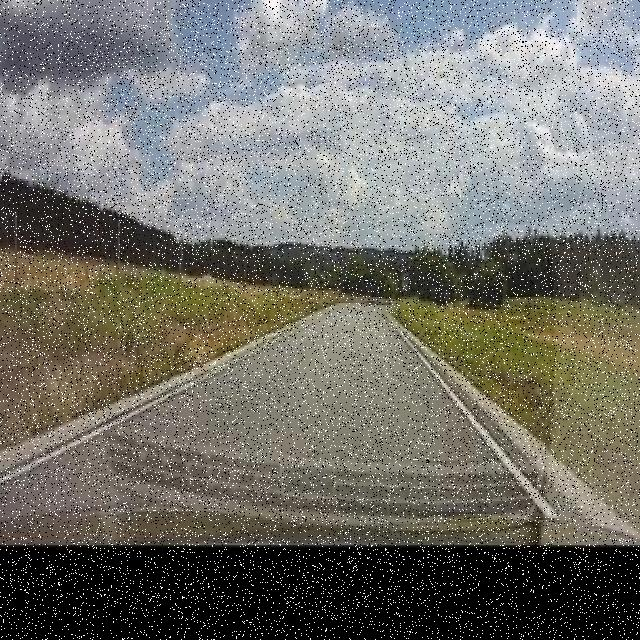clear-road: (132, 306, 494, 462)
